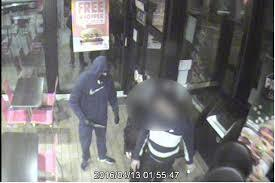weapon: (83, 118, 108, 132)
